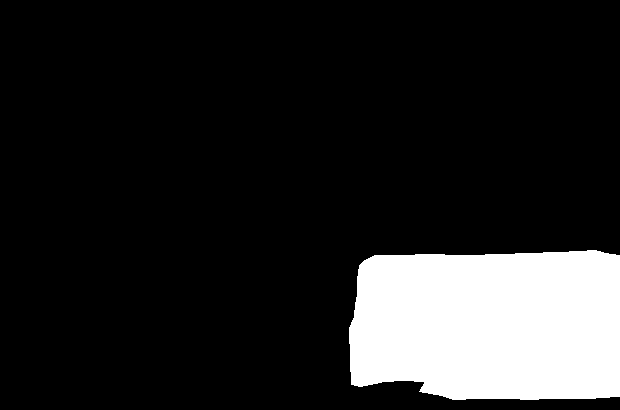type4: (346, 245, 620, 401)
